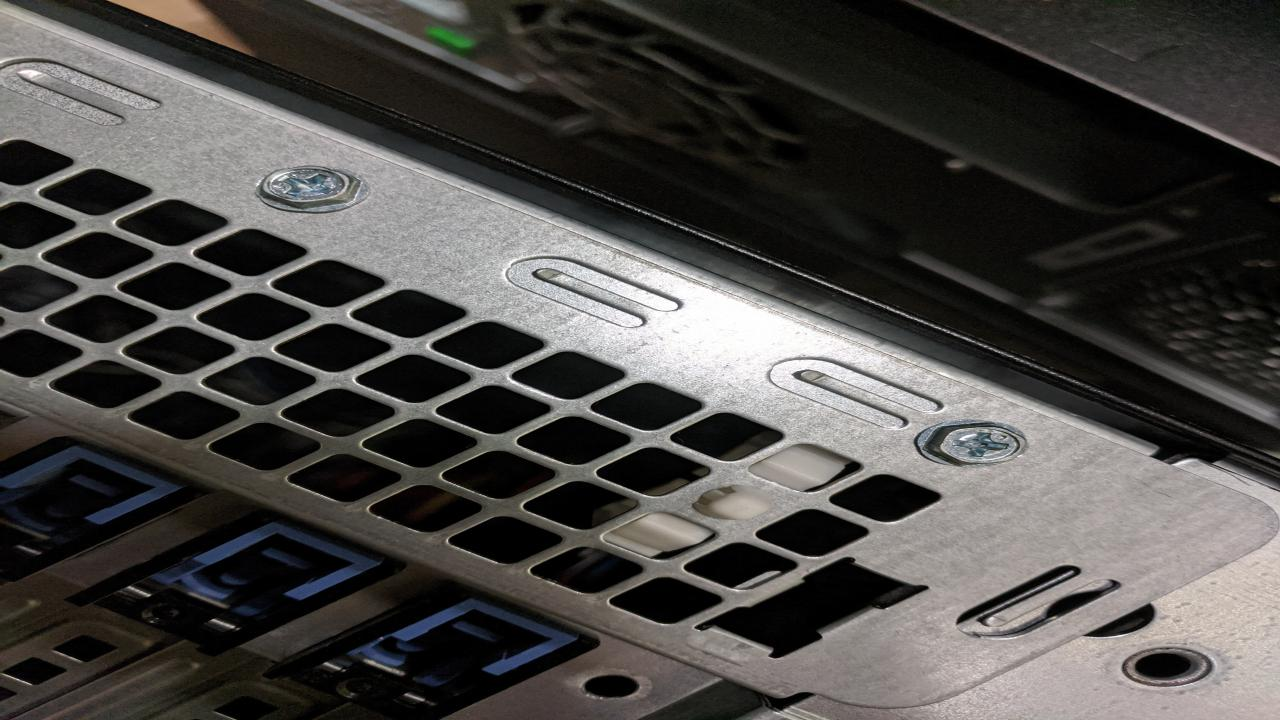CRS: (922, 422, 1031, 466), (262, 168, 355, 207)
